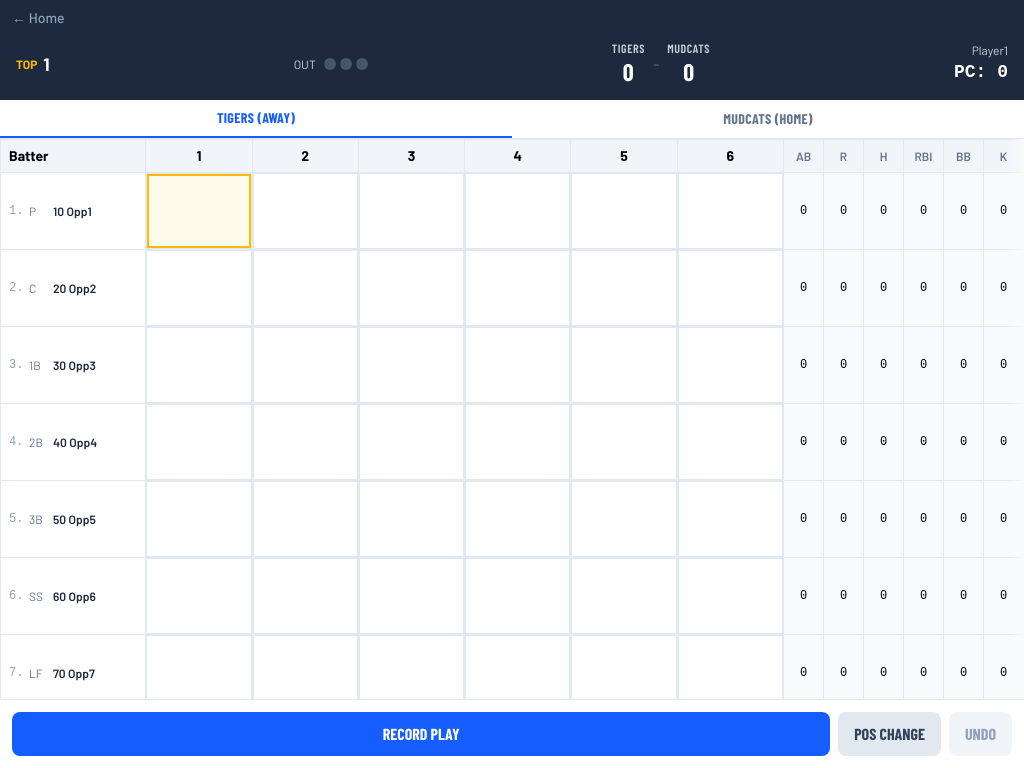
Test: GamePage › auto-records walk after 4th ball
Click the button "Record Play": (421, 734) top-left (12, 712), bottom-right (830, 756)
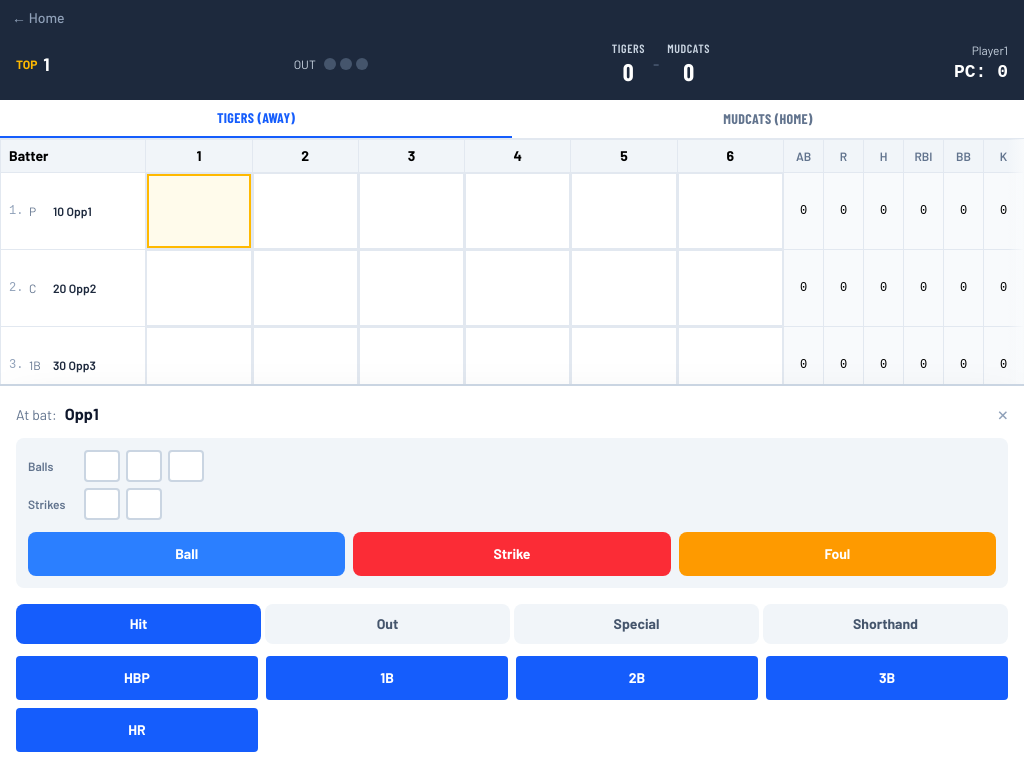
Now the button "Ball" is shown
Click the button "Ball": (187, 554) top-left (28, 532), bottom-right (345, 576)
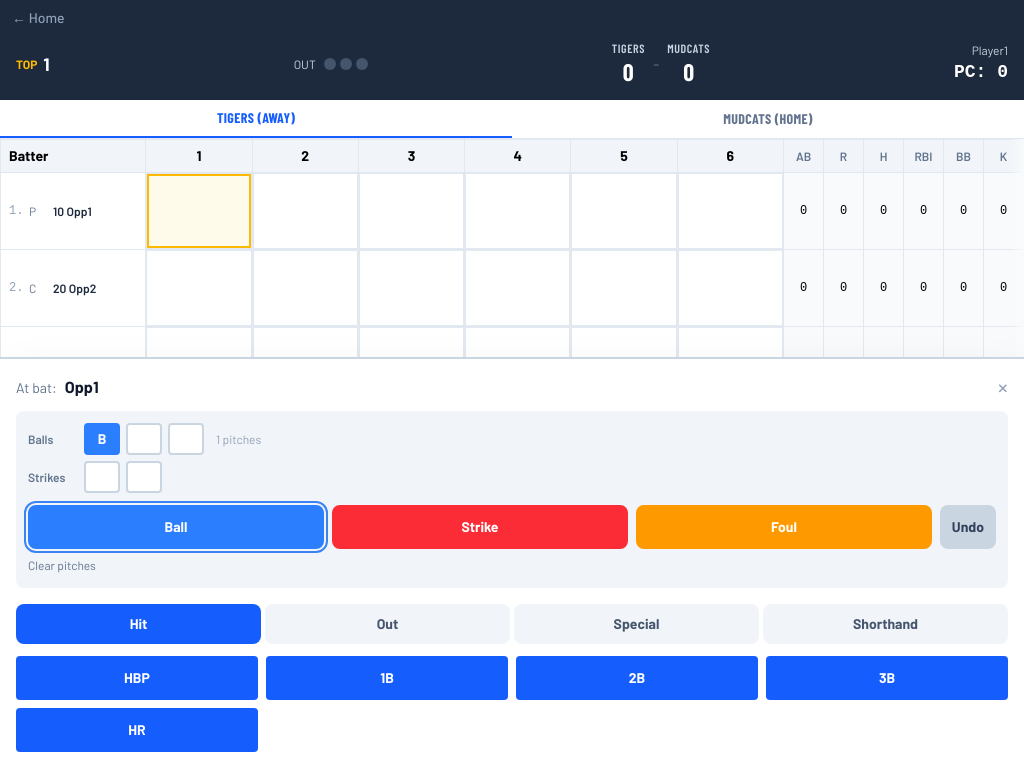
Click the button "Ball": (176, 527) top-left (28, 505), bottom-right (324, 549)
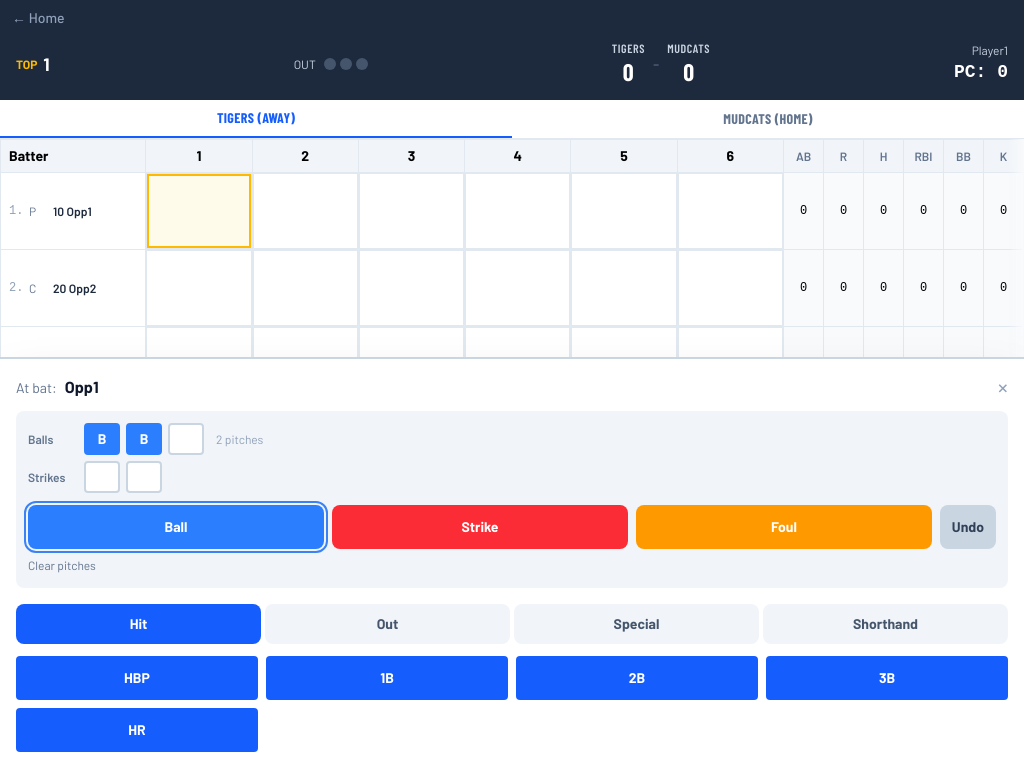
Click the button "Ball": (176, 527) top-left (28, 505), bottom-right (324, 549)
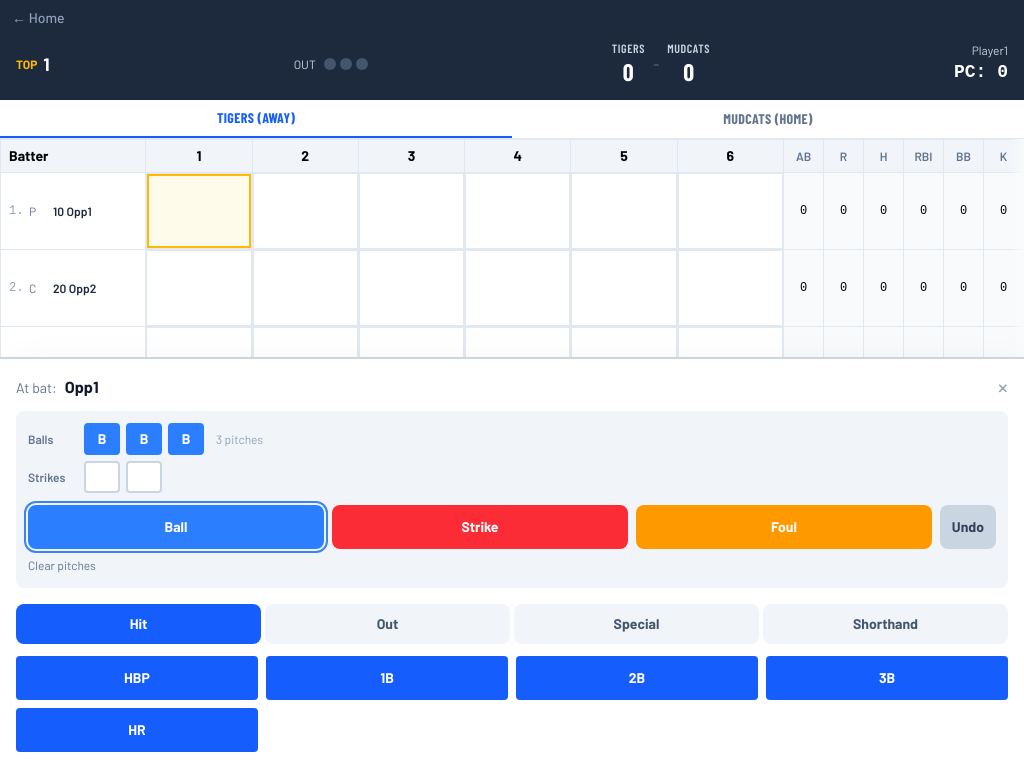
Click the button "Ball": (176, 527) top-left (28, 505), bottom-right (324, 549)
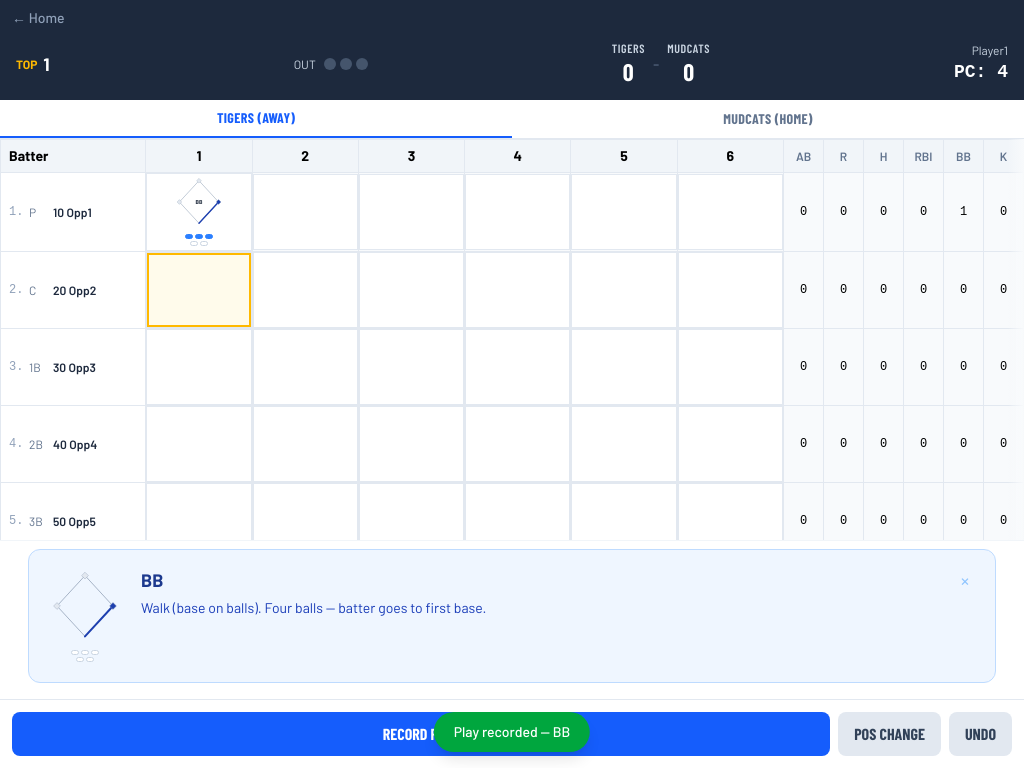
Now the text "At bat:" is gone
Now the text "Walk" is shown, box top-left (141, 599), bottom-right (486, 616)
